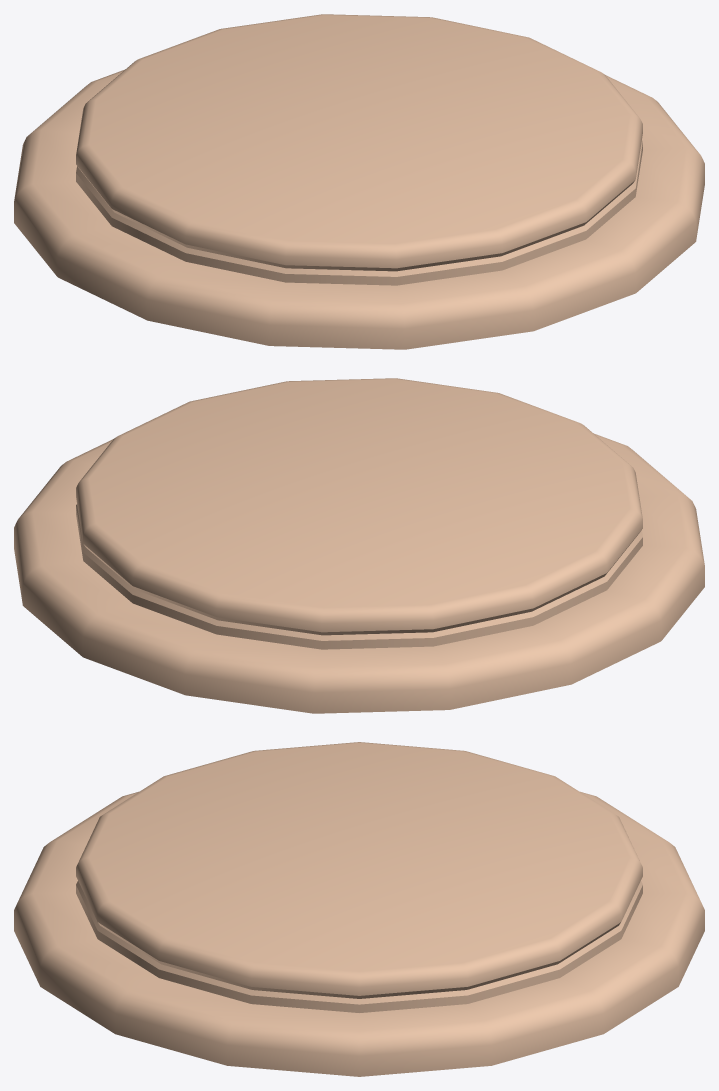
The model's file is BucDung.fbx.
3 views of the same model, one above another, from view 1: azimuth 30°, elevation 25°; view 2: azimuth 150°, elevation 25°; view 3: azimuth 270°, elevation 25° (orthographic).
Visible parts, largest first — view 1: Cylinder; view 2: Cylinder; view 3: Cylinder.
Part boxes in pixels (<box>): Cylinder: <box>14,14,704,349</box>; Cylinder: <box>14,378,704,713</box>; Cylinder: <box>14,742,704,1076</box>.
Size of the model in its own units: 244 by 28.64 by 244.
